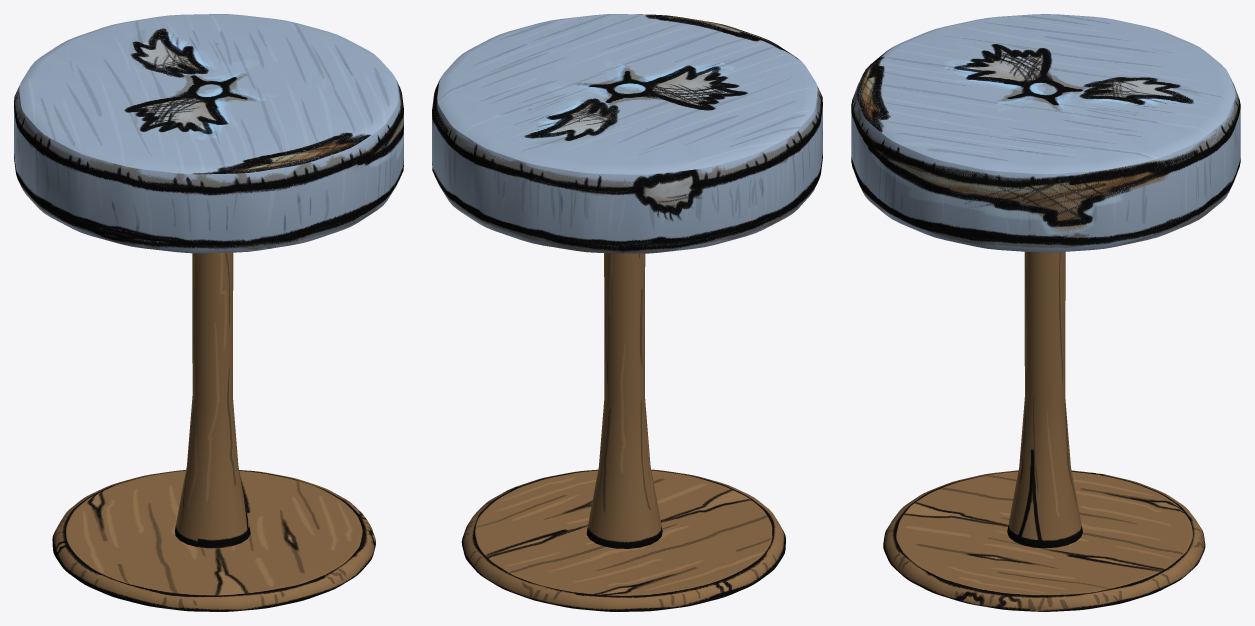
File: Greenhouse_Stool_Future.fbx
3 views of the same model, side by side, from view 1: azimuth 30°, elevation 25°; view 2: azimuth 150°, elevation 25°; view 3: azimuth 270°, elevation 25° (orthographic).
Parts seen in each view (by area): view 1: pCylinder12, pasted__pCylinder5, pasted__pCylinder6; view 2: pCylinder12, pasted__pCylinder5, pasted__pCylinder6; view 3: pCylinder12, pasted__pCylinder5, pasted__pCylinder6.
Boxes of the visible parts, x1,y1,x2,y2 form: pCylinder12: (14, 14, 403, 253); pasted__pCylinder5: (52, 470, 375, 611); pasted__pCylinder6: (175, 252, 250, 548); pCylinder12: (432, 14, 822, 253); pasted__pCylinder5: (461, 469, 785, 611); pasted__pCylinder6: (586, 253, 662, 548); pCylinder12: (851, 14, 1240, 252); pasted__pCylinder5: (883, 470, 1205, 611); pasted__pCylinder6: (1007, 251, 1082, 548).
Size of the model in its own units: 1.99 by 2.56 by 1.99.
Materials: 3 (3 with a texture image).
